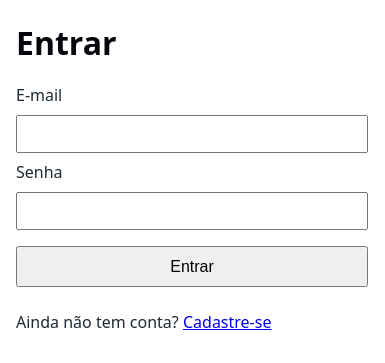
Test: LoginPage (fluxo completo via App real) › shows the backend error message for wrong credentials without redirecting
The image size is (385, 363).
Type "user@example.com" into the field labelled "E-mail". click: (192, 134)
box: [16,115,368,153]
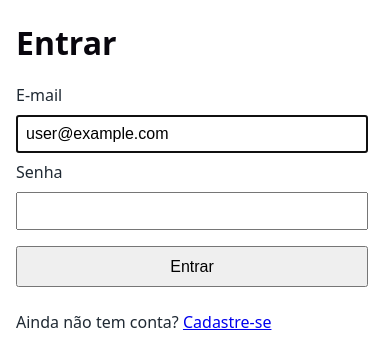
Type "WrongPassword" into the password field labelled "Senha". click: (192, 211)
box: [16,192,368,230]
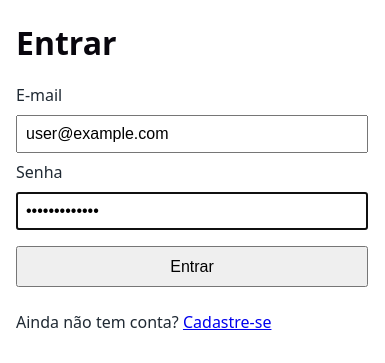
Click the button "Entrar". click: (192, 267)
box: [16,246,368,287]
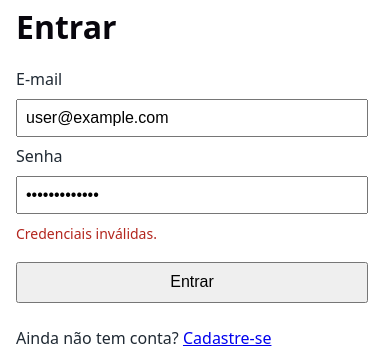
expect the message reads "Credenciais inválidas.": met, box [16,224,157,243]
